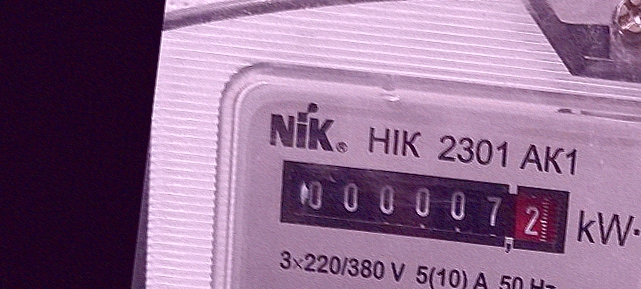0: (372, 178, 399, 218), (301, 174, 327, 212), (444, 184, 469, 223), (410, 182, 434, 221), (338, 177, 362, 214)
2: (519, 201, 544, 239)
7: (479, 190, 505, 230)
screen: (269, 148, 580, 264)
